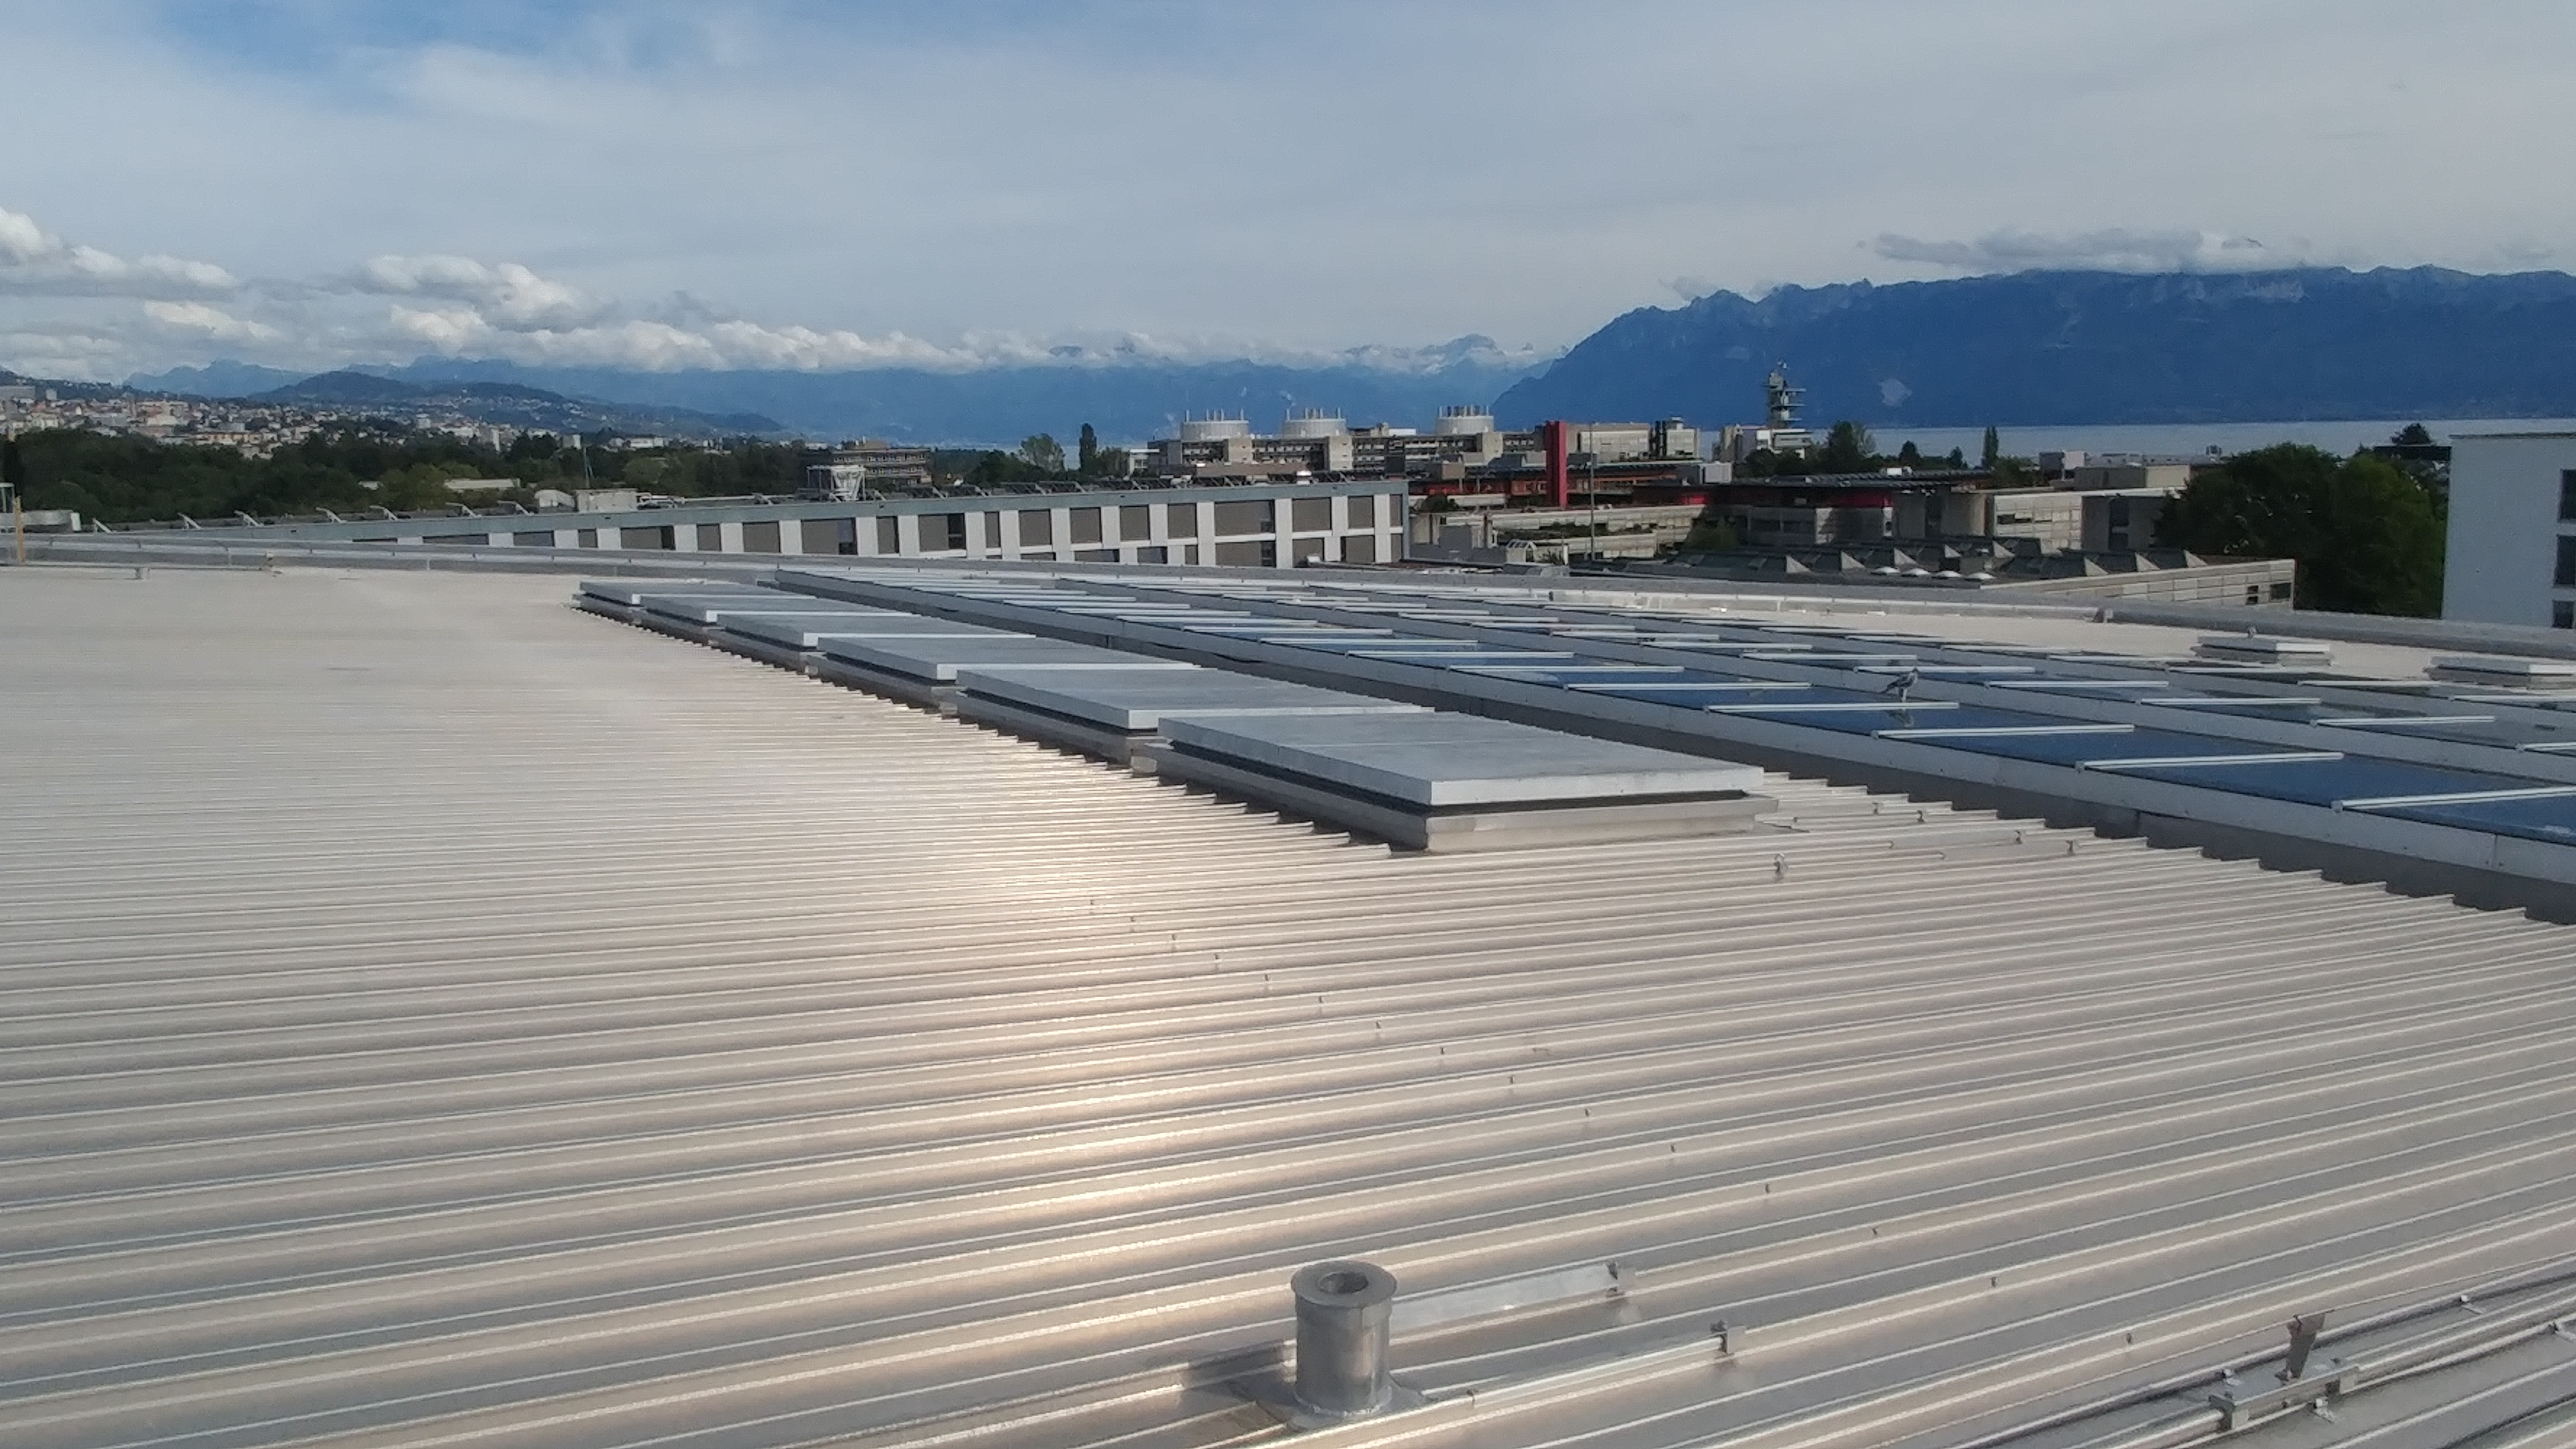Pigeon: (1879, 660, 1927, 701)
